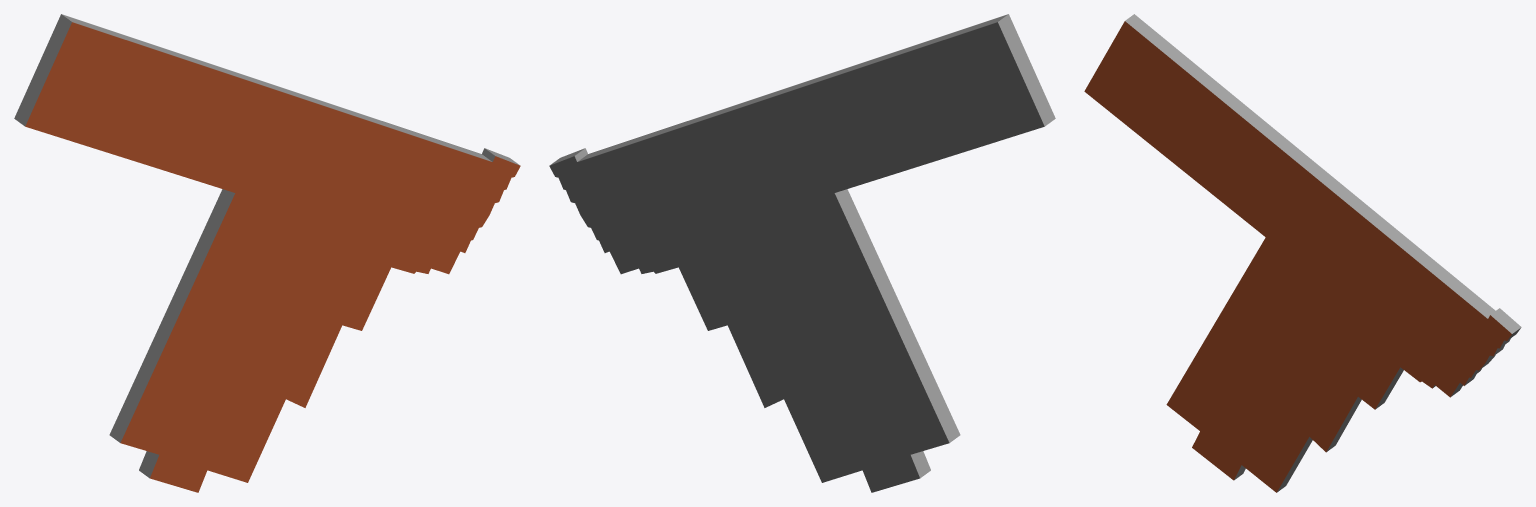
Rendered from construction_0147_assumed_A_Grande_construcao_h6m.obj.
3 views of the same model, side by side, from view 1: azimuth 30°, elevation 25°; view 2: azimuth 150°, elevation 25°; view 3: azimuth 330°, elevation 25° (orthographic). The views are drawn at different scales.
Parts seen in each view (by area): view 1: construction_0147_assumed_A_Grande_construcao; view 2: construction_0147_assumed_A_Grande_construcao; view 3: construction_0147_assumed_A_Grande_construcao.
Part boxes in pixels (left/top/right/bottom): construction_0147_assumed_A_Grande_construcao: left=14, top=14, right=520, bottom=492; construction_0147_assumed_A_Grande_construcao: left=549, top=14, right=1055, bottom=492; construction_0147_assumed_A_Grande_construcao: left=1084, top=14, right=1521, bottom=492.
Bounding box in the file's own units: 156 × 151 × 6.
